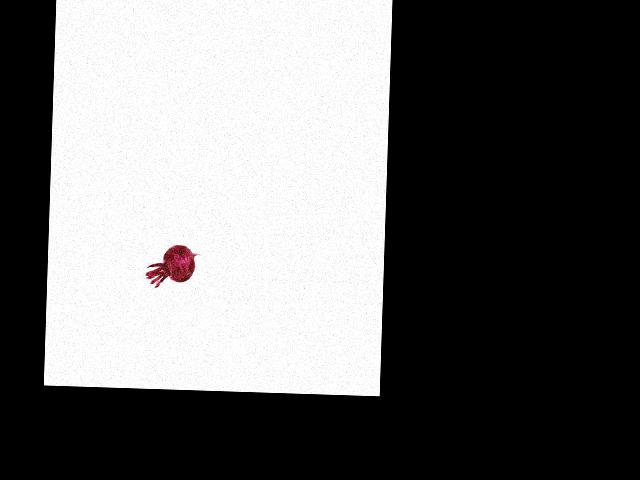beet: (145, 243, 202, 289)
